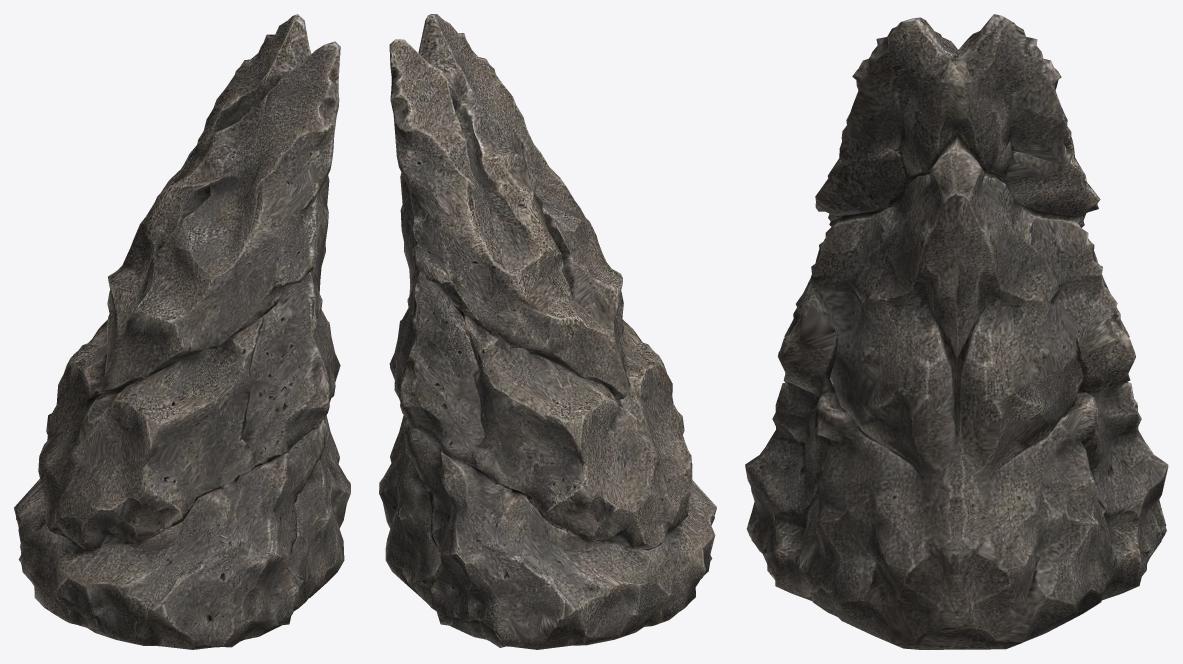
Rendered from rock.glb.
The picture shows the model from 3 angles, left to right: view 1: azimuth 30°, elevation 25°; view 2: azimuth 150°, elevation 25°; view 3: azimuth 270°, elevation 25°; orthographic projection. The views are drawn at different scales.
Parts seen in each view (by area): view 1: rock; view 2: rock; view 3: rock.
Part boxes in pixels (bbox=[...]): rock: bbox=[14, 14, 350, 649]; rock: bbox=[379, 14, 716, 649]; rock: bbox=[745, 14, 1168, 649].
Bounding box in the file's own units: 0.5792 × 0.9783 × 0.5885.
1 material, 1 textured.
